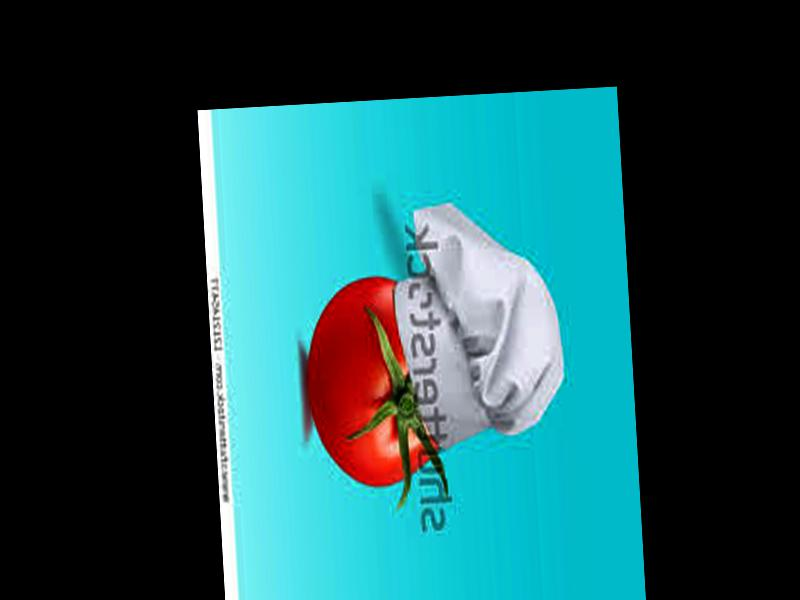Tomato: (304, 274, 441, 486)
